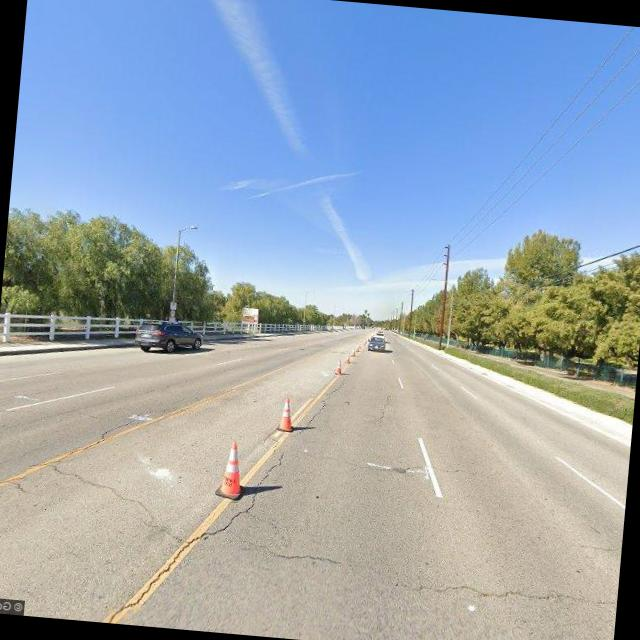crack: (91, 443, 288, 632), (400, 567, 618, 618), (294, 438, 490, 491), (45, 464, 181, 530), (51, 397, 158, 468), (244, 534, 366, 572), (302, 374, 348, 432), (376, 386, 396, 428)
